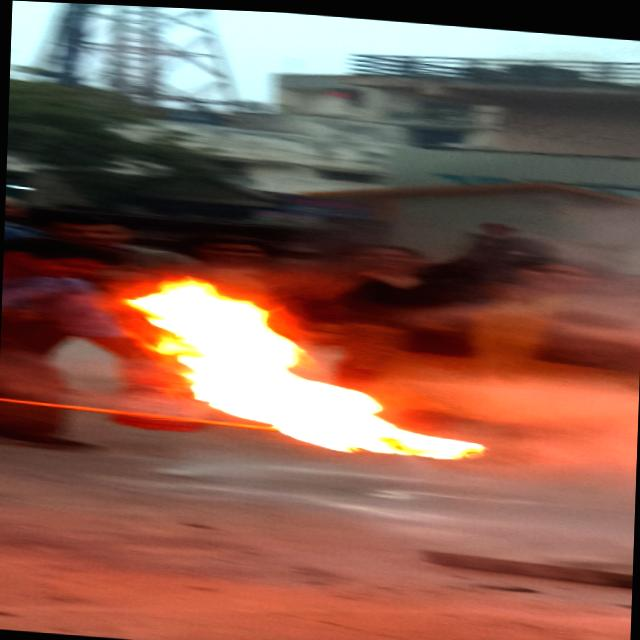Fire: (106, 267, 495, 458)
